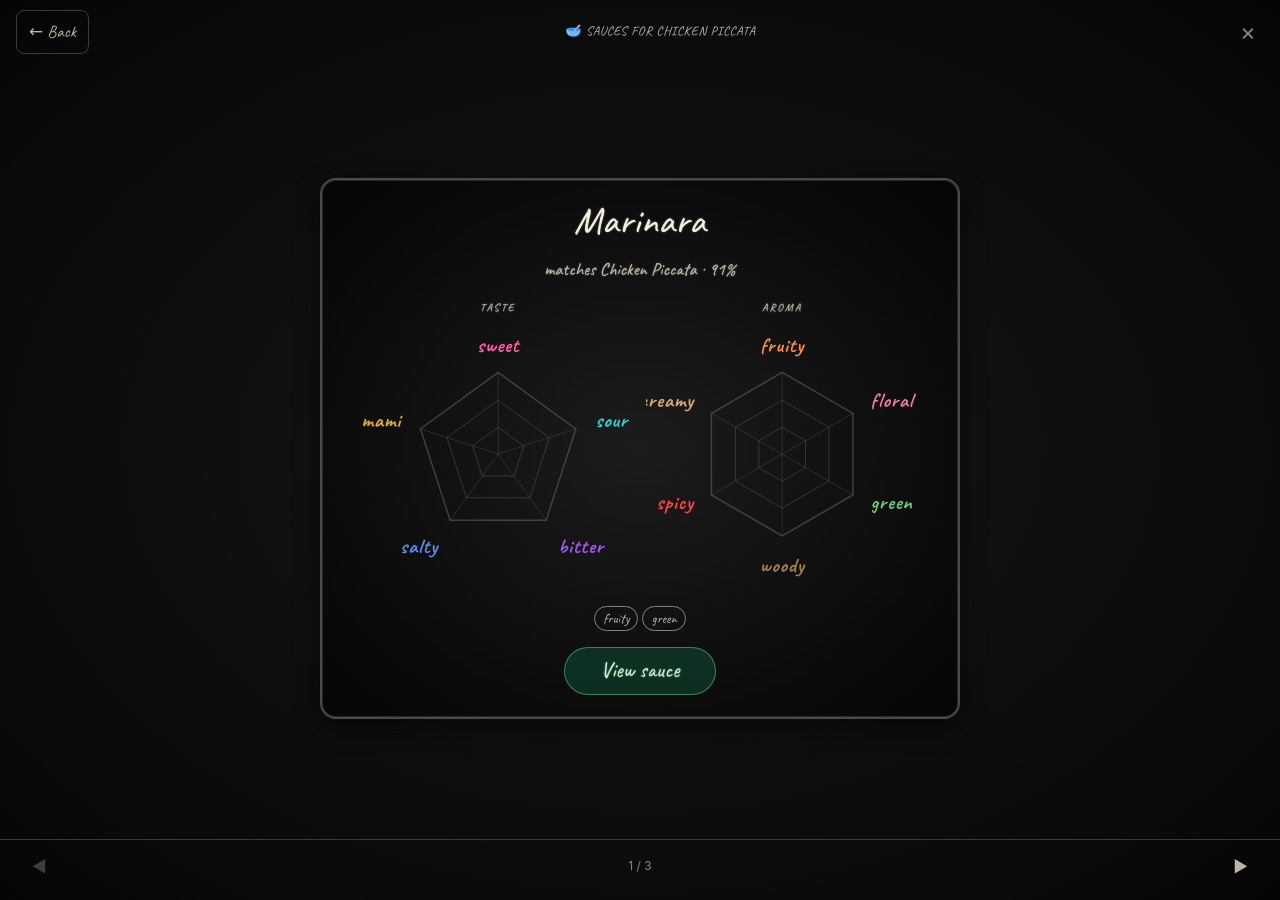
SauceLab — matchesContext non-null renders the card deck › ▶ advances to the next sauce card
Click the button with test id "sauce-deck-next".
click(1241, 866)  # box [1217,844,1264,888]
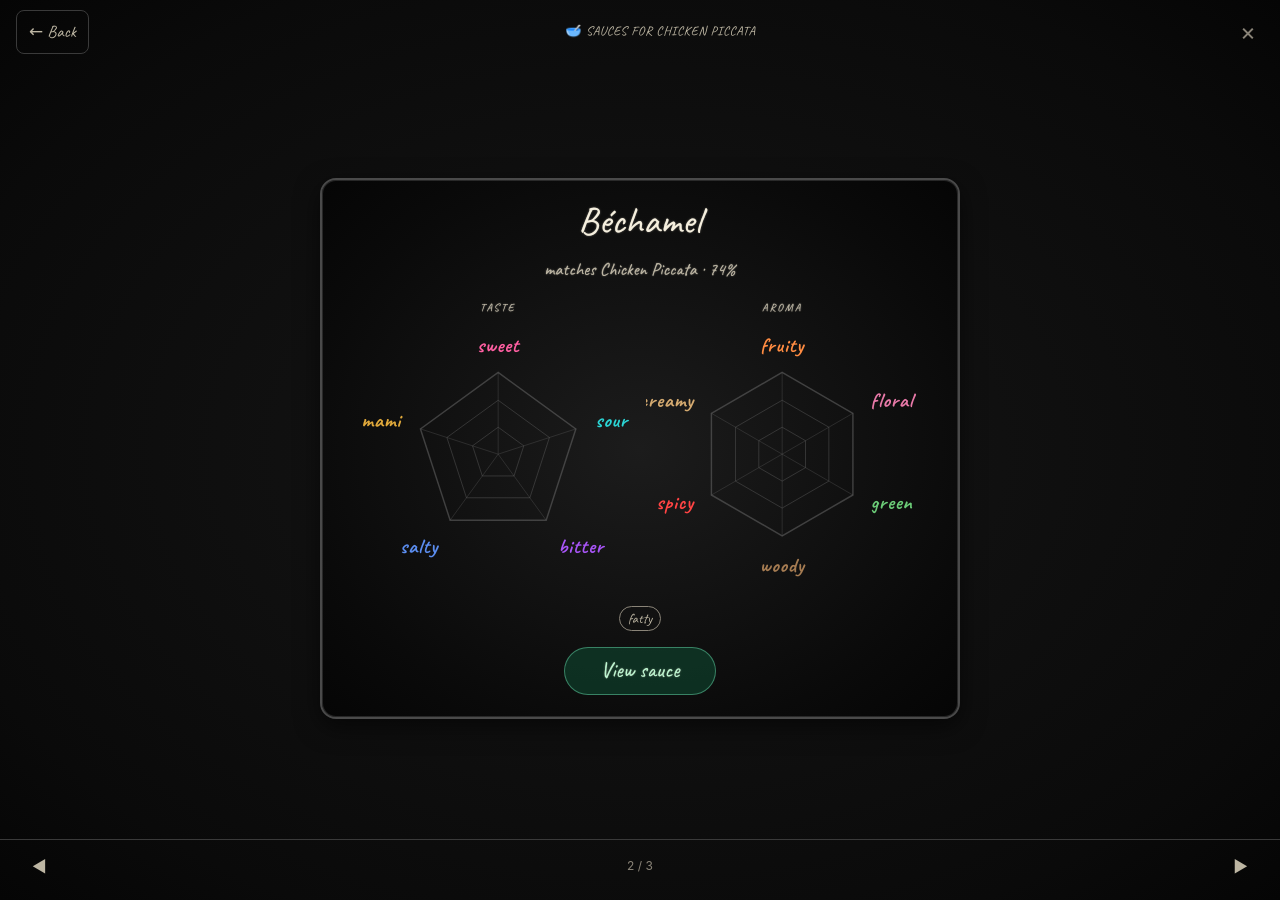
Expected: the heading with test id "sauce-card-name" reads "Béchamel", [578,197,702,244]
